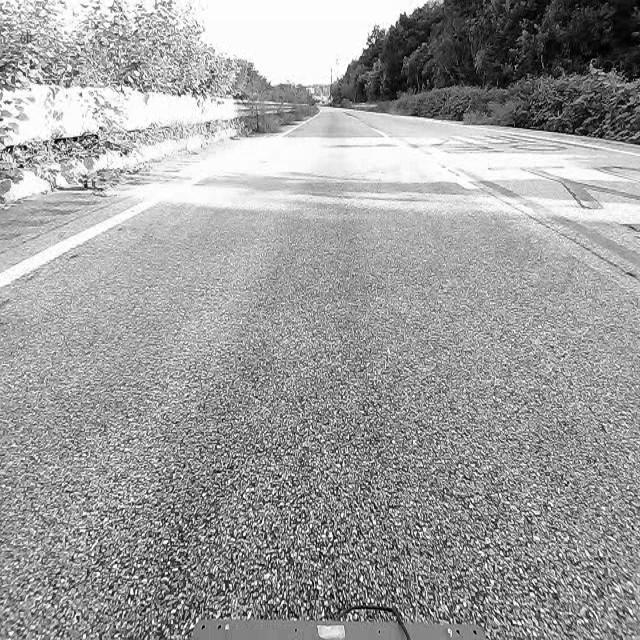Lane: (0, 198, 163, 304), (0, 190, 162, 296)
